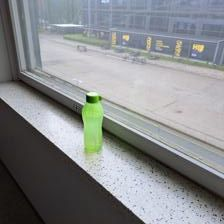bottle: (79, 89, 105, 154)
